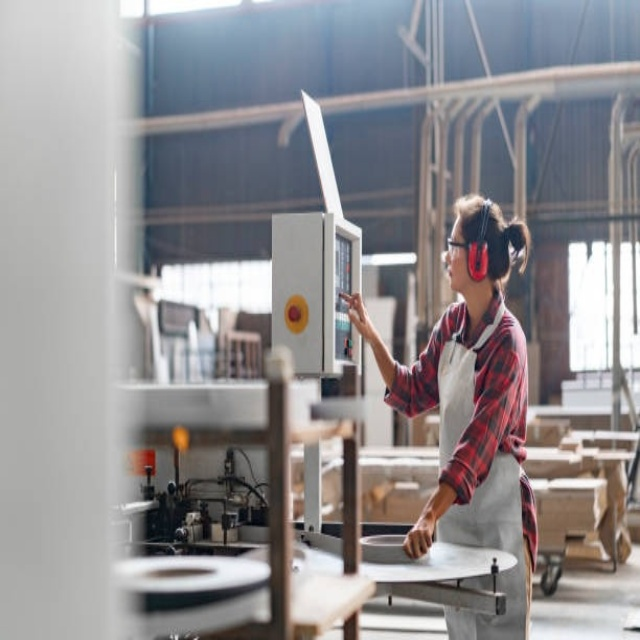Gafas: (446, 238, 471, 258)
Sin_guantes: (344, 285, 379, 337), (402, 512, 437, 558)
Sin_mascara: (443, 260, 467, 290)
